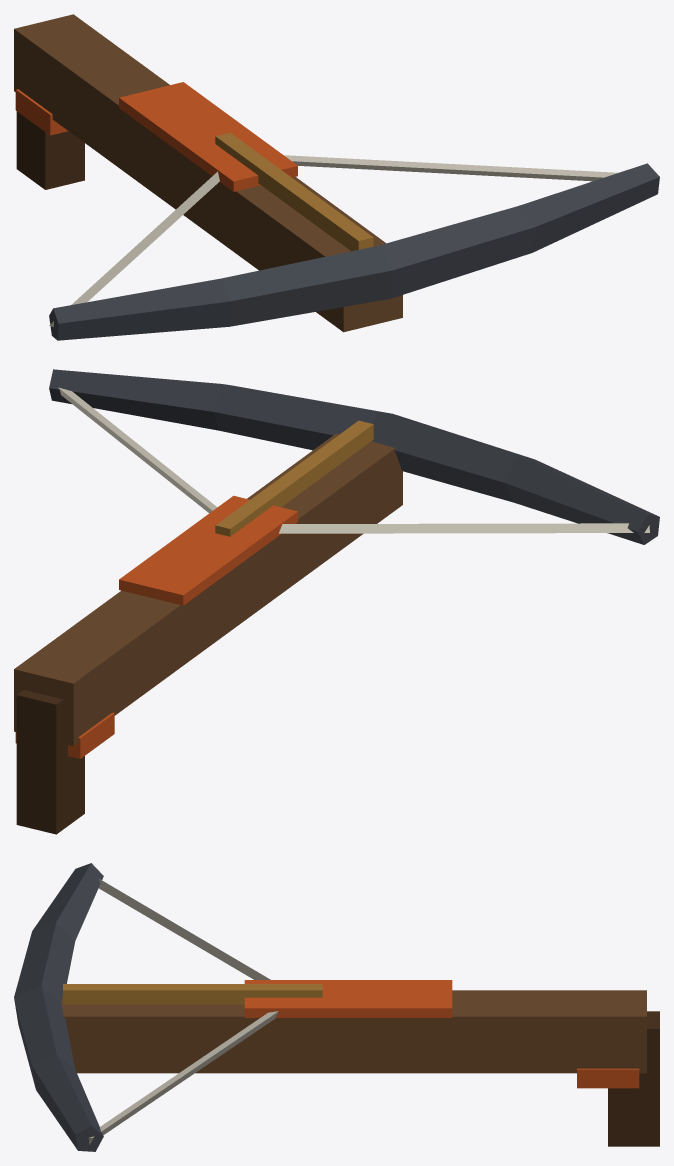
Rendered from weapon_bow.glb.
3 renders of one model, top to bottom at view 1: azimuth 30°, elevation 25°; view 2: azimuth 150°, elevation 25°; view 3: azimuth 270°, elevation 25°, orthographic. The views are drawn at different scales.
Visible parts, largest first — view 1: demon_weapon_bow; view 2: demon_weapon_bow; view 3: demon_weapon_bow.
Part boxes in pixels (<box>): demon_weapon_bow: <box>14,14,659,340</box>; demon_weapon_bow: <box>14,369,659,834</box>; demon_weapon_bow: <box>14,863,659,1151</box>.
Size of the model in its own units: 0.7272 by 0.1946 by 0.7465.
